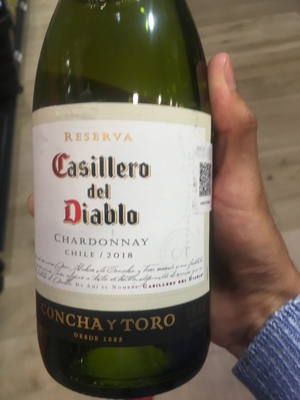casillero del diablo chardonnay: (28, 13, 225, 391)
